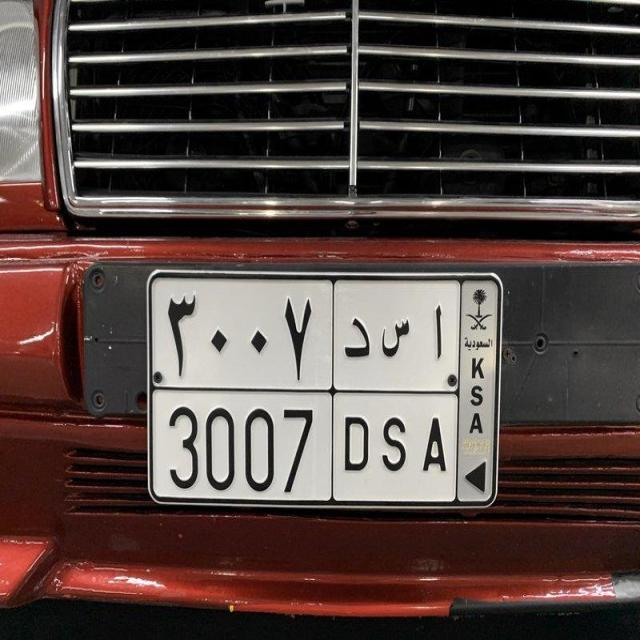license_plate: (128, 258, 495, 517)
